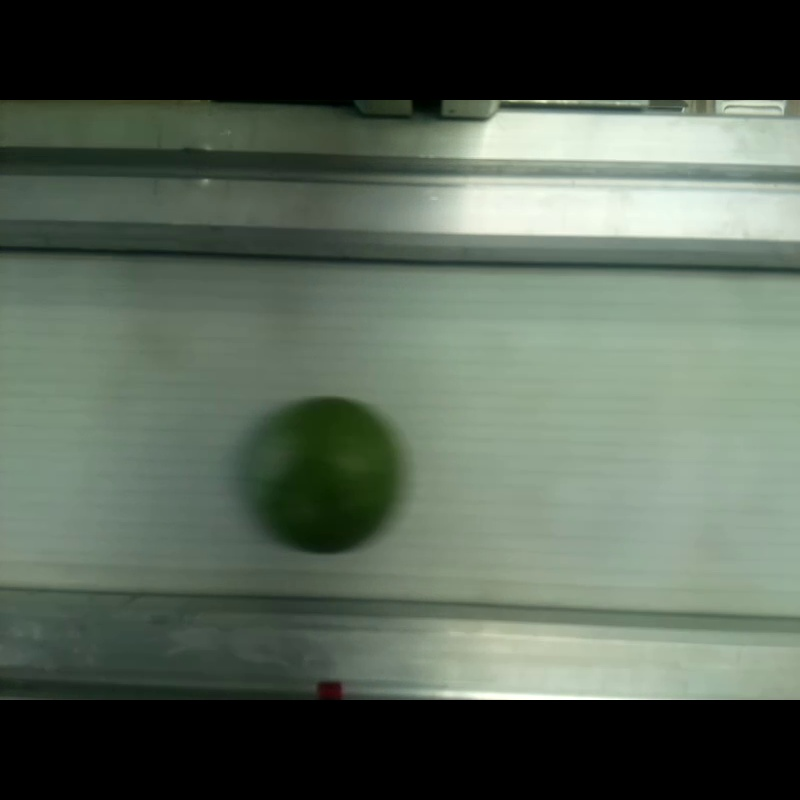lime: (244, 397, 393, 554)
